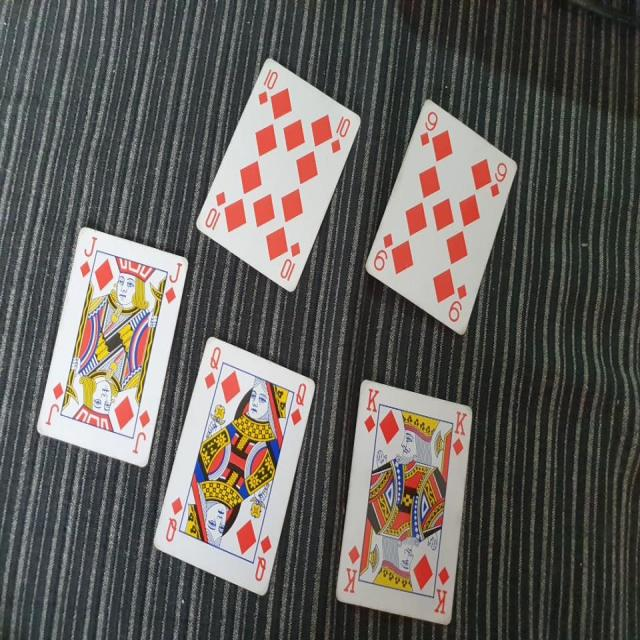10 Diamonds: (189, 55, 361, 294)
9 Diamonds: (363, 94, 518, 337)
J Diamonds: (33, 222, 188, 468)
K Diamonds: (333, 380, 474, 626)
Q Diamonds: (151, 332, 316, 598)
